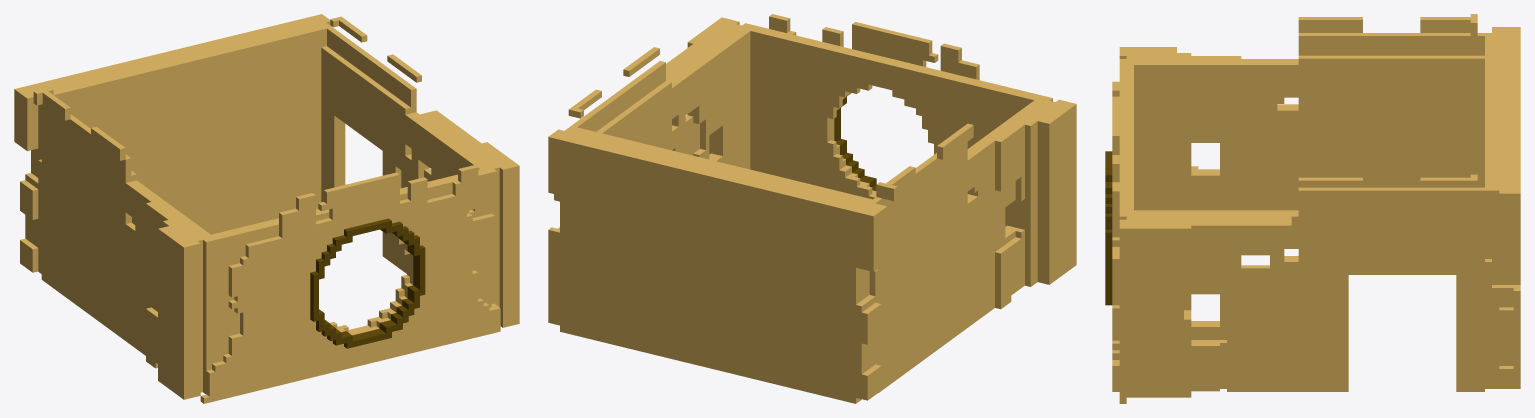
The model's file is House-4.obj.
The picture shows the model from 3 angles, left to right: view 1: azimuth 30°, elevation 25°; view 2: azimuth 150°, elevation 25°; view 3: azimuth 270°, elevation 25°; orthographic projection. The views are drawn at different scales.
Size of the model in its own units: 6 by 3.3 by 5.8.
Materials: 1 (1 with a texture image).
